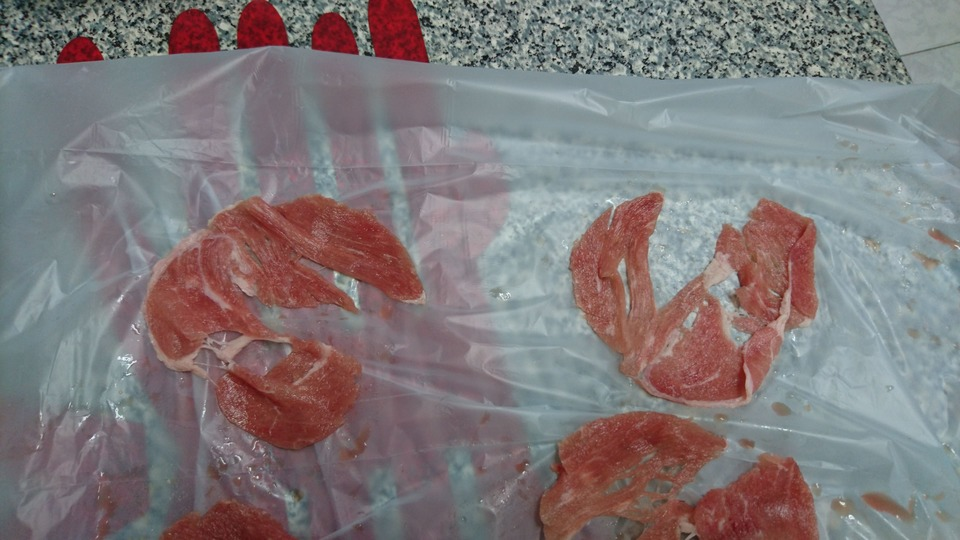restructured meat: (126, 203, 430, 455), (583, 176, 827, 409), (538, 411, 835, 536)
